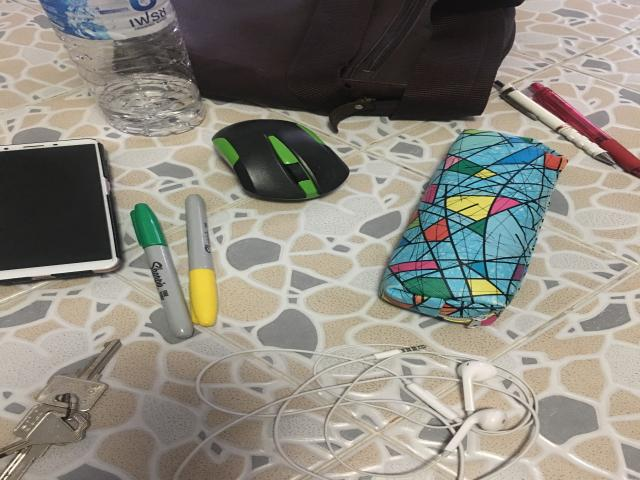Keys: (0, 340, 122, 480)
Mobile phone: (0, 139, 122, 283)
Mouse: (213, 119, 350, 200)
Pen: (530, 82, 640, 176), (495, 81, 615, 165), (130, 203, 193, 338), (185, 194, 218, 326)
bottle: (40, 0, 205, 136)
wire: (172, 344, 541, 480)
